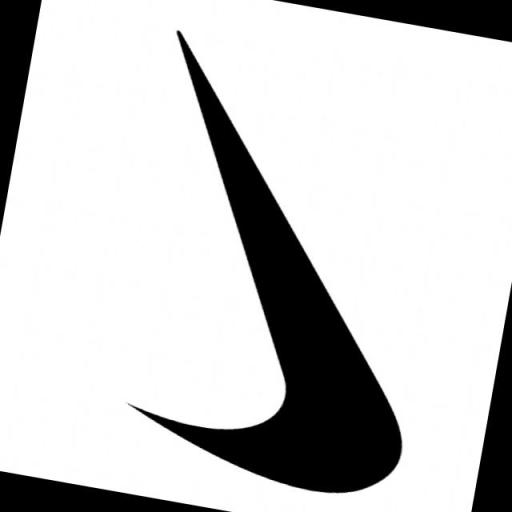Nike: (103, 28, 468, 502)
